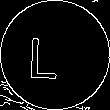L_N: (39, 29, 71, 81)
